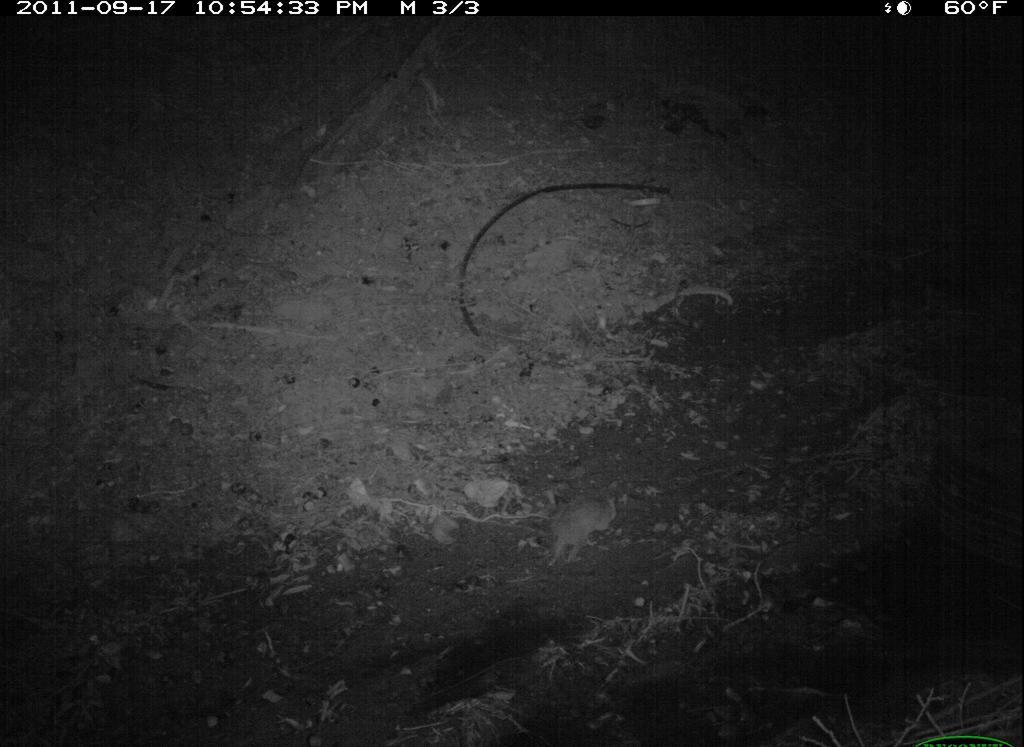opossum: (527, 477, 623, 577)
